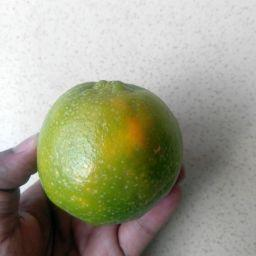Unripe: (37, 80, 182, 225)
